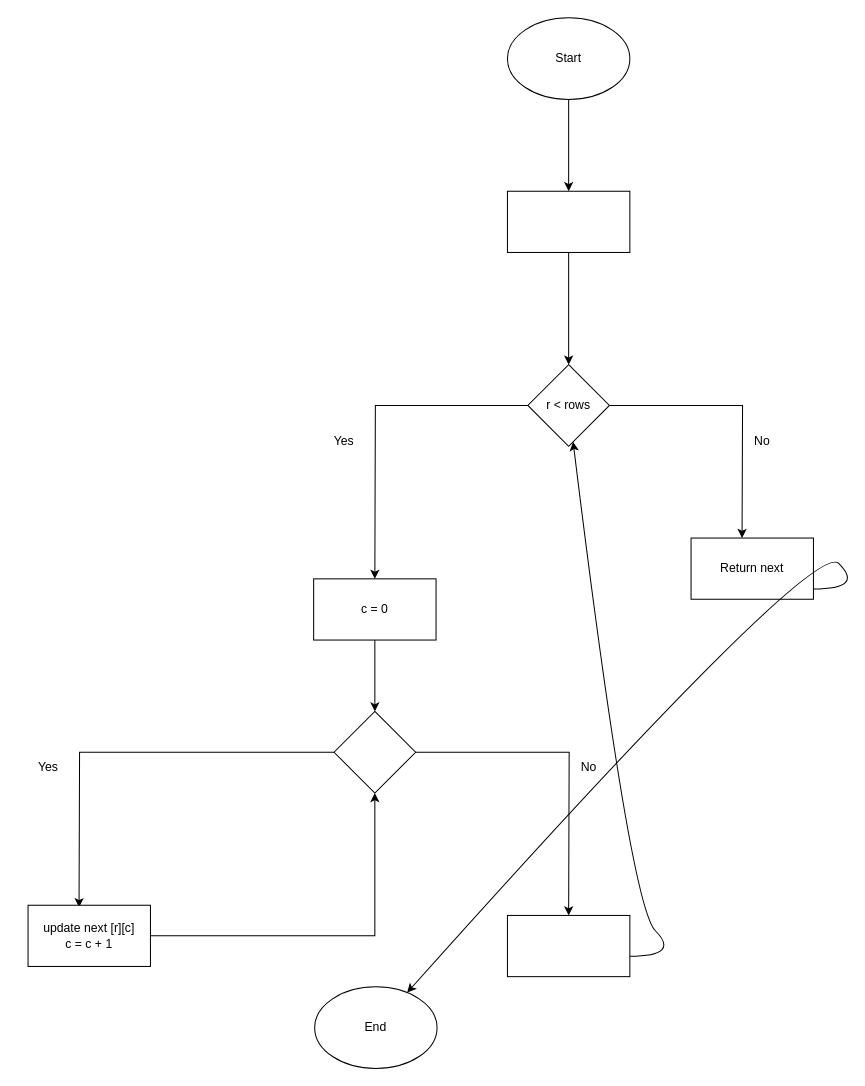
The diagram is 865 pixels wide and 1086 high, and some of its shapes have lost their labels. Here are the shapes that lost their labels. From the top down, the centre of each, then its label:
At pixel 568 221: "r = 0".
At pixel 374 751: "c < cols?".
At pixel 568 945: "r = r + 1".
